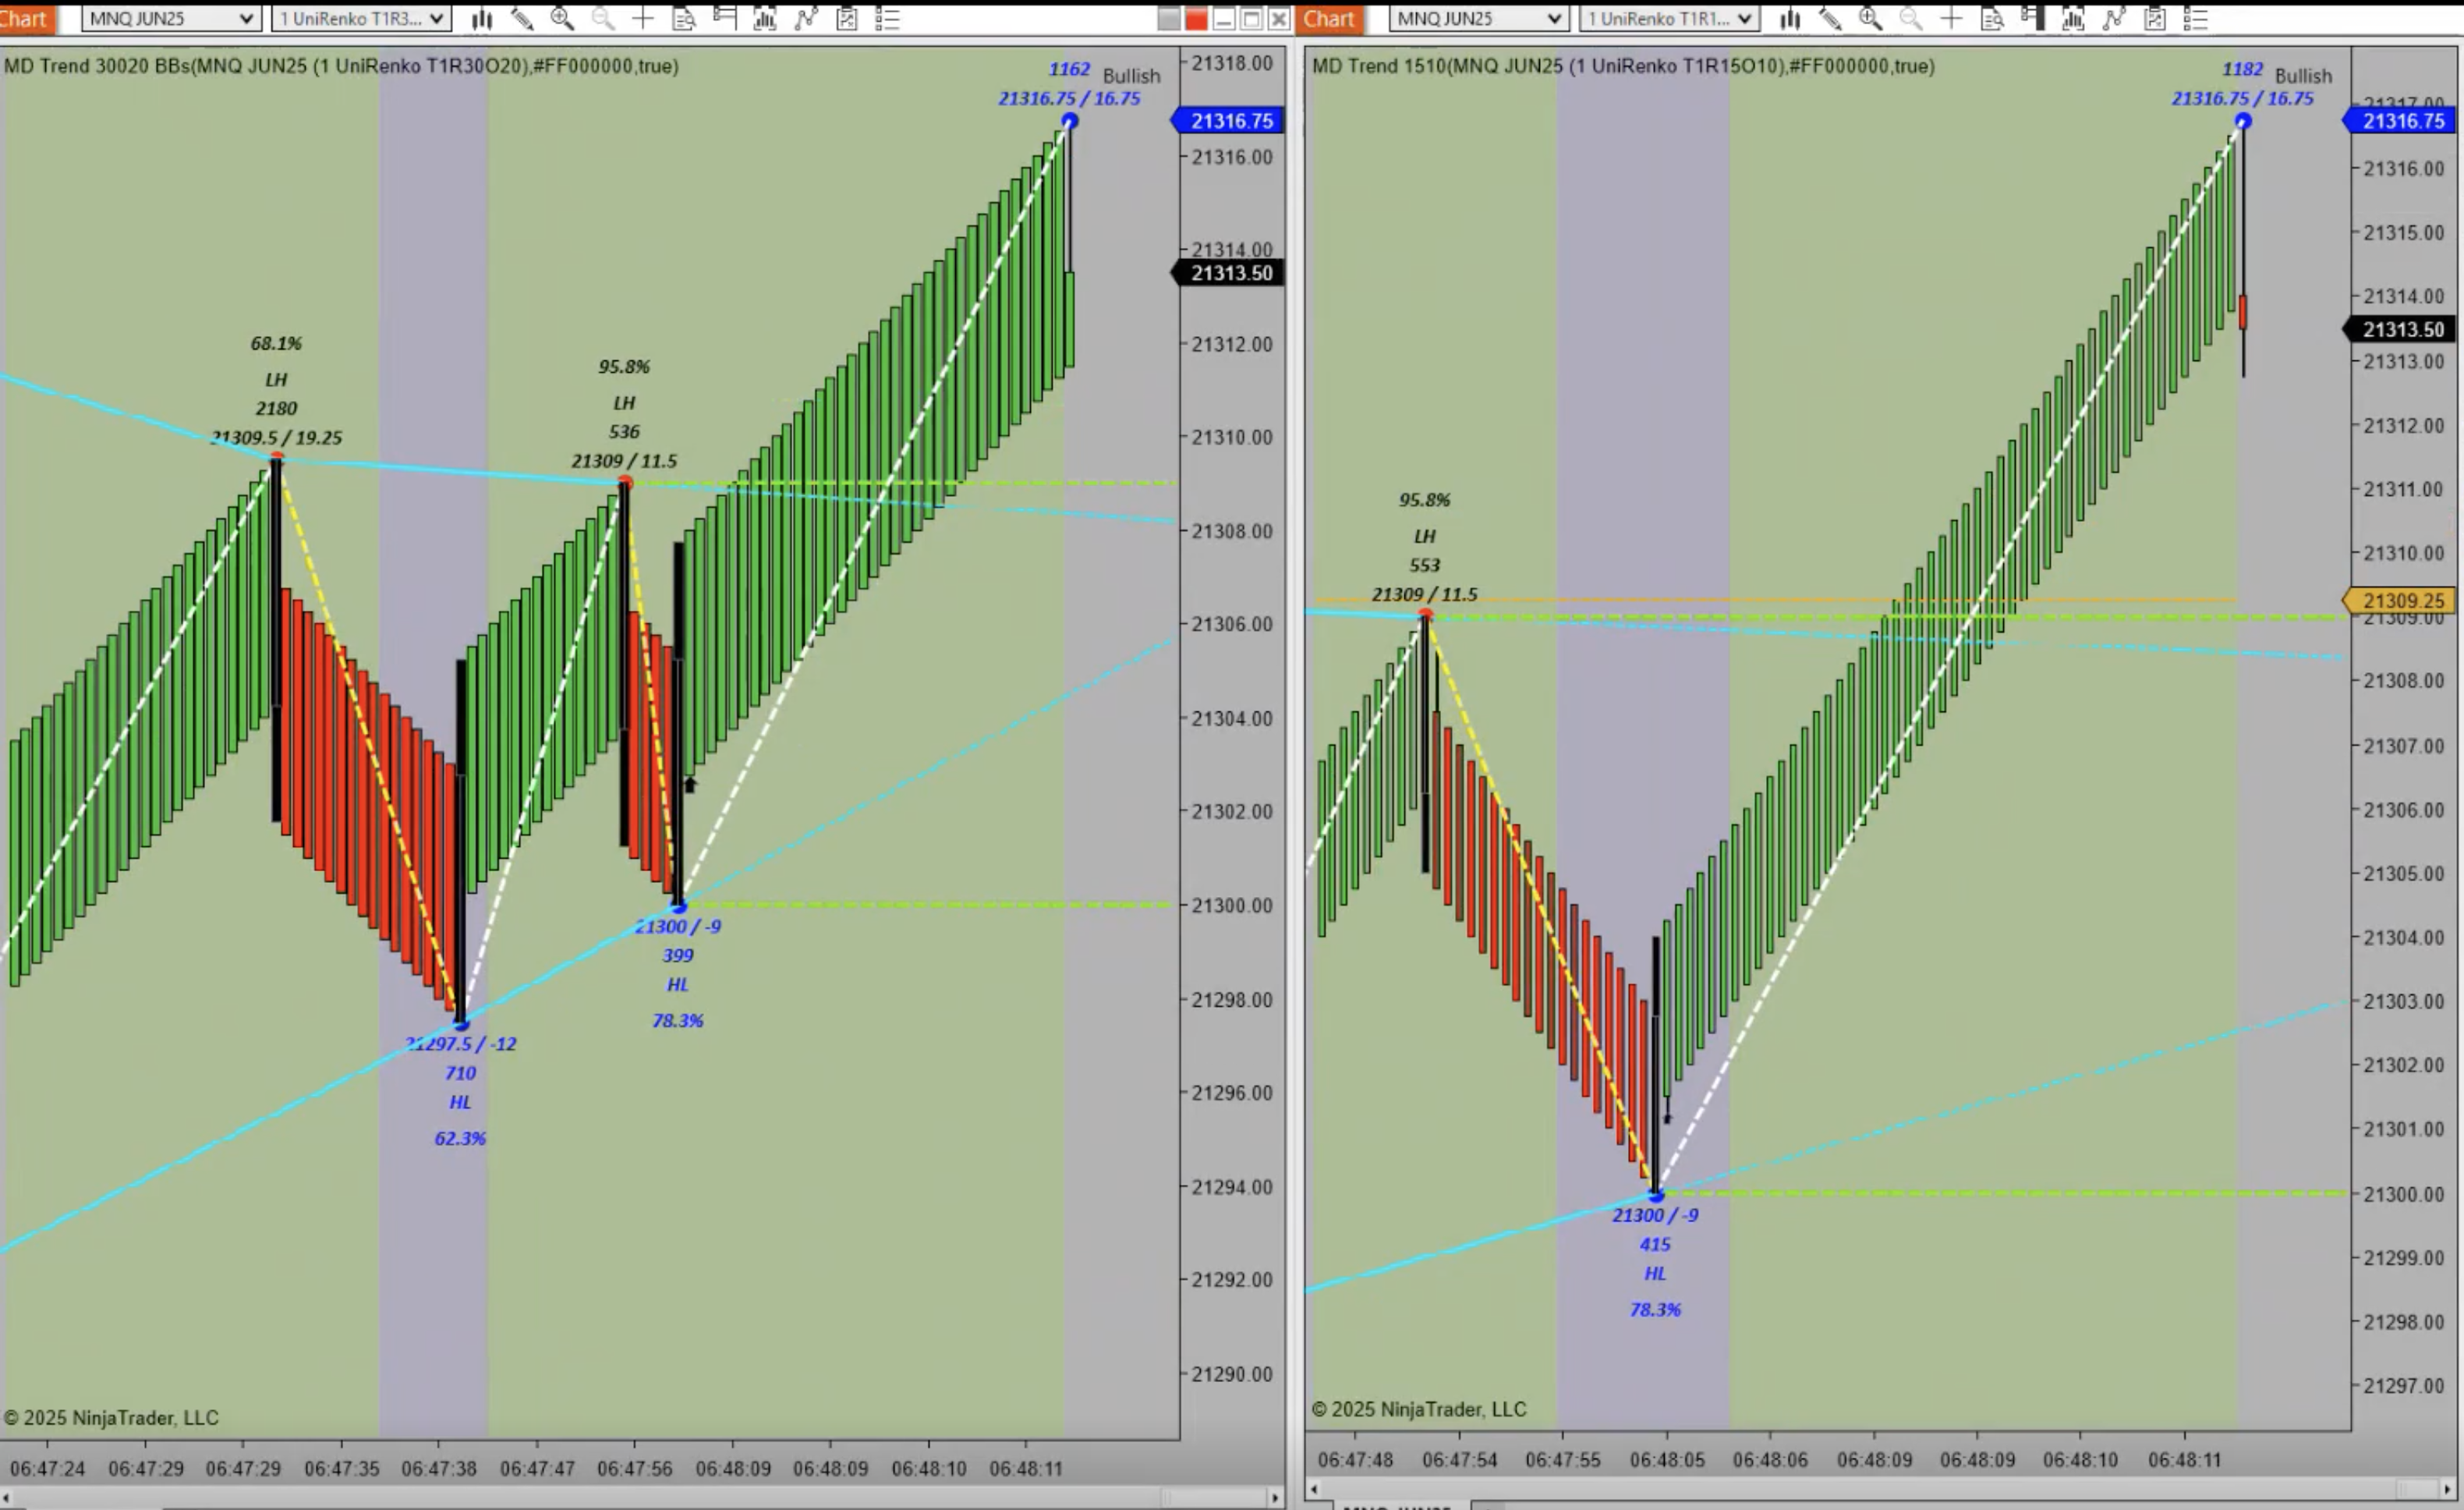candle: (452, 658, 480, 1024), (266, 454, 287, 824), (616, 480, 632, 855), (671, 540, 686, 908), (1651, 935, 1668, 1188), (1420, 616, 1434, 876)
